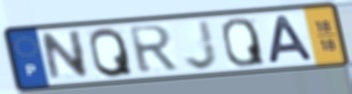A: (267, 13, 317, 66)
J: (182, 18, 221, 72)
N: (39, 28, 92, 84)
Q: (88, 25, 136, 79), (219, 16, 268, 68)
R: (126, 23, 181, 76)
